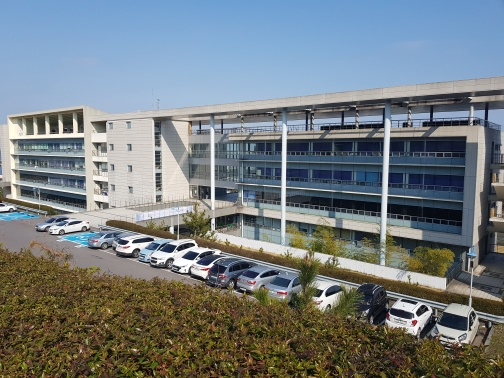Engineering College Building 4: (5, 85, 503, 242), (300, 103, 493, 271), (80, 110, 288, 216)
